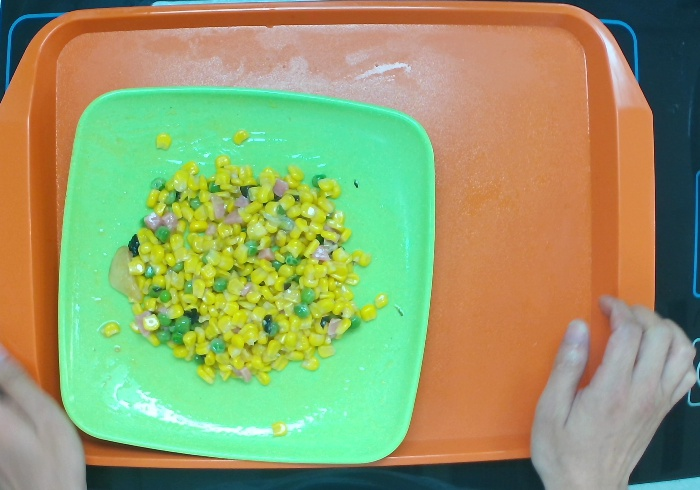ZNLD-Lv_Fang_Pan: (53, 82, 439, 467)
